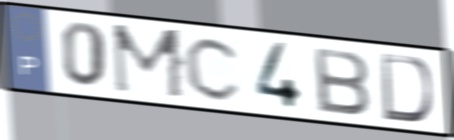0: (59, 20, 108, 90)
4: (253, 39, 304, 113)
B: (310, 45, 373, 118)
C: (182, 34, 244, 103)
D: (378, 51, 436, 125)
M: (109, 21, 188, 102)
